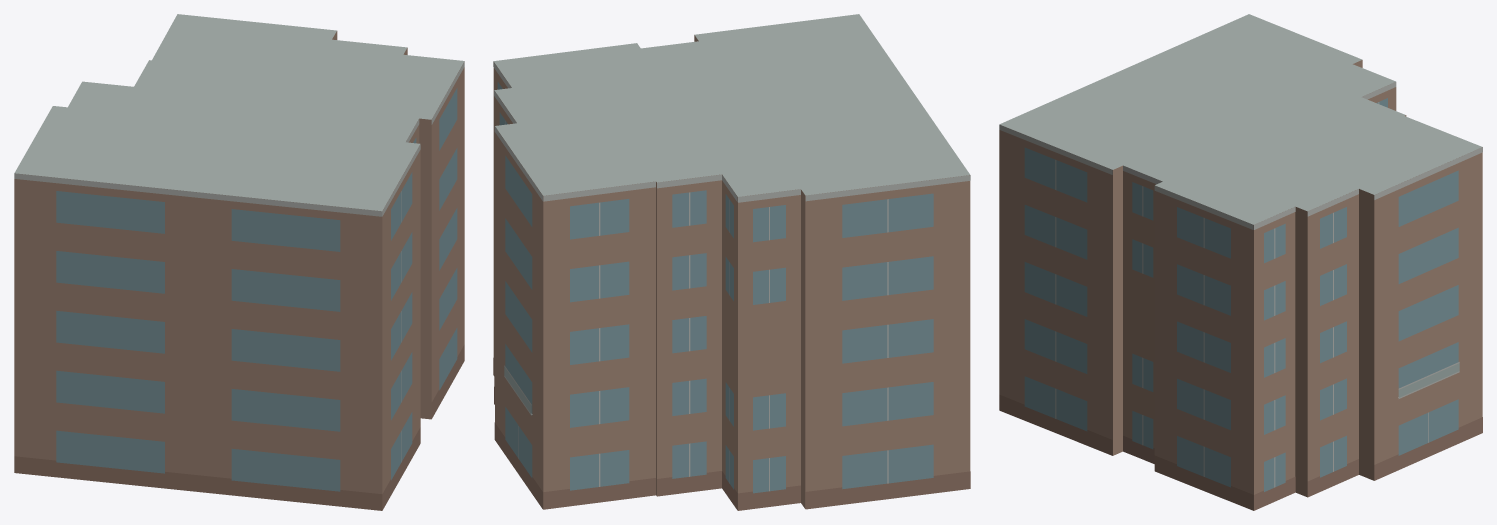
File: survey-upis-32619122.glb
3 renders of one model, left to right at view 1: azimuth 30°, elevation 25°; view 2: azimuth 150°, elevation 25°; view 3: azimuth 270°, elevation 25°, orthographic. The views are drawn at different scales.
Visible parts, largest first — view 1: survey-upis-32619122.tmp; view 2: survey-upis-32619122.tmp; view 3: survey-upis-32619122.tmp.
Part boxes in pixels (box(x1,y1,x2,y2)): survey-upis-32619122.tmp: box(14, 14, 464, 510); survey-upis-32619122.tmp: box(493, 14, 970, 510); survey-upis-32619122.tmp: box(999, 14, 1482, 510).
Size of the model in its own units: 20.72 by 13.1 by 20.08.
